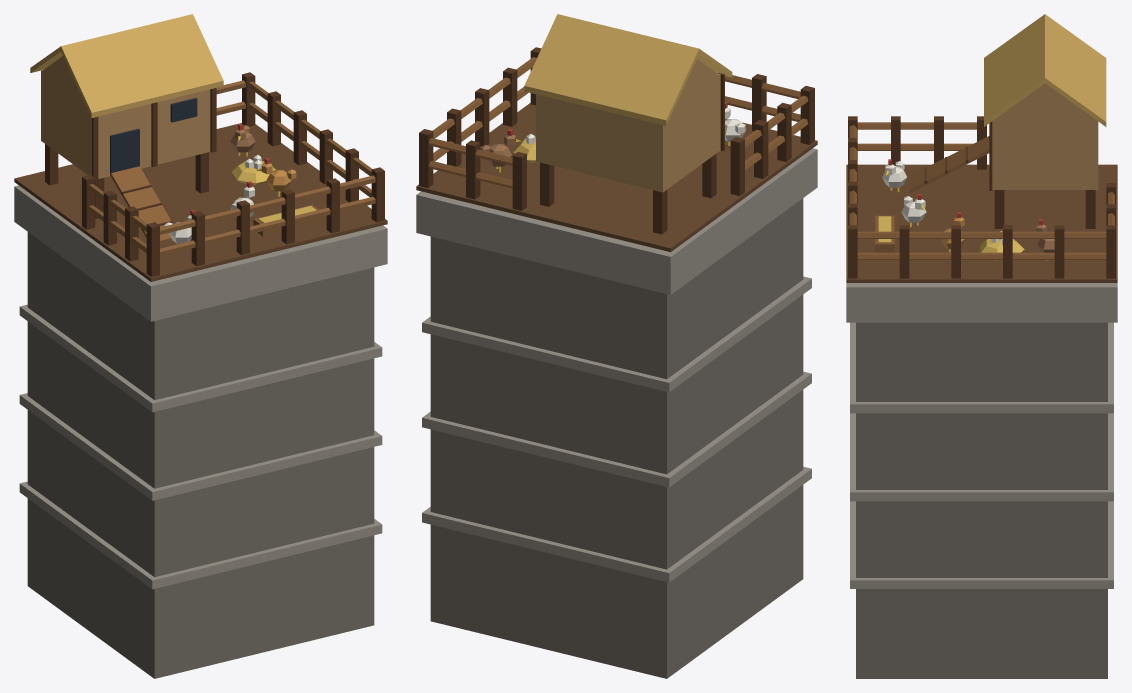
Rendered from decor_chicken_coop.glb.
3 renders of one model, left to right at view 1: azimuth 30°, elevation 25°; view 2: azimuth 150°, elevation 25°; view 3: azimuth 270°, elevation 25°, orthographic. The views are drawn at different scales.
Visible parts, largest first — view 1: decor_chicken_coop; view 2: decor_chicken_coop; view 3: decor_chicken_coop.
Part boxes in pixels (x1=…): decor_chicken_coop: x1=14, y1=14, x2=387, y2=678; decor_chicken_coop: x1=416, y1=14, x2=817, y2=678; decor_chicken_coop: x1=846, y1=14, x2=1117, y2=678.
Bounding box in the file's own units: 2.8 × 6.36 × 2.8.
